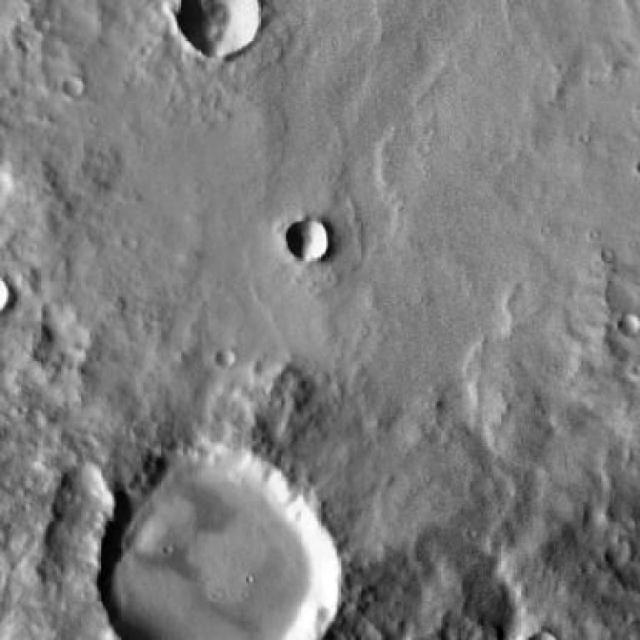crater: (100, 451, 342, 640), (178, 0, 262, 57), (283, 219, 328, 264), (468, 480, 492, 505), (214, 348, 234, 368), (63, 78, 83, 98)
